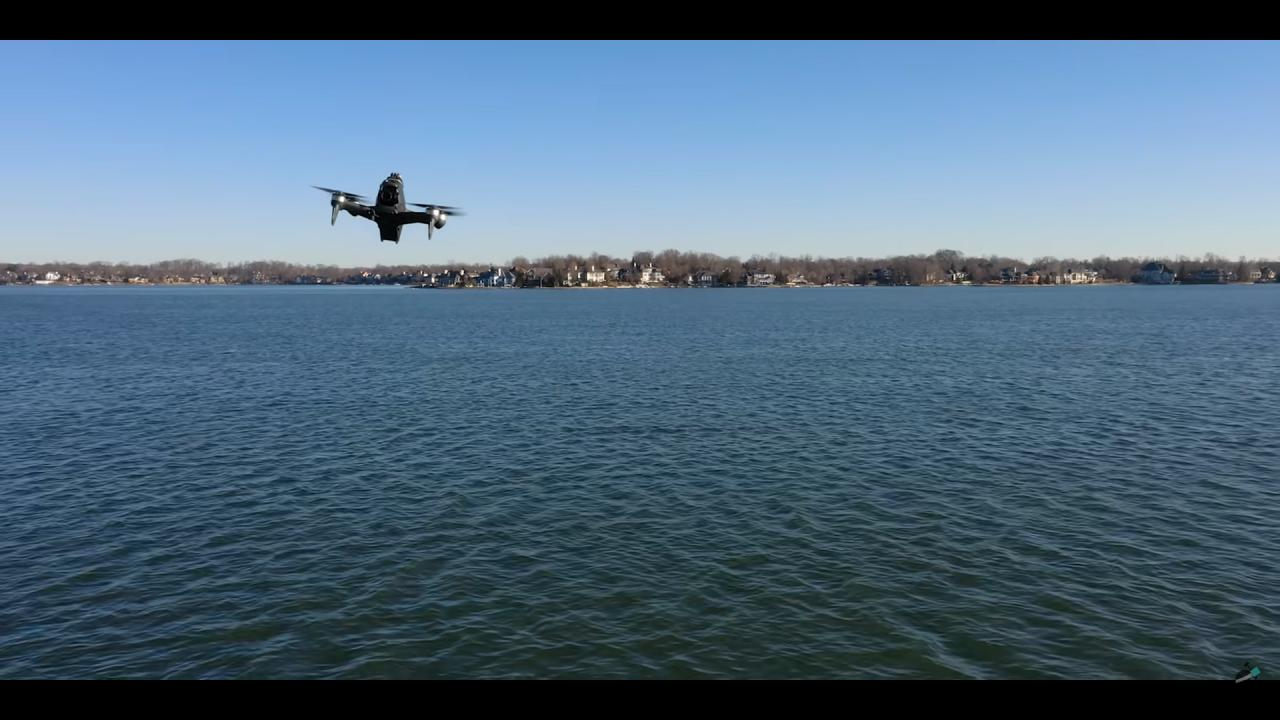Drone: (300, 168, 472, 252)
